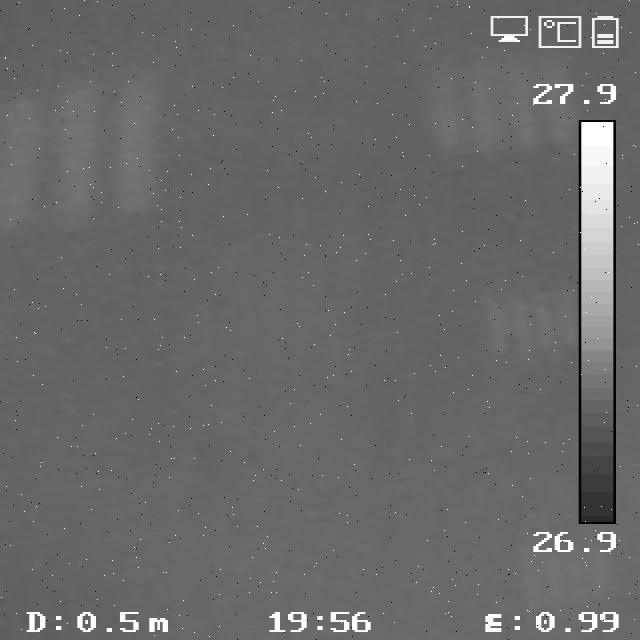Indistinguishable 4-bar target: (490, 285, 574, 350), (529, 558, 604, 609)
threshold 4-bar target: (1, 85, 168, 216), (440, 68, 576, 156)
